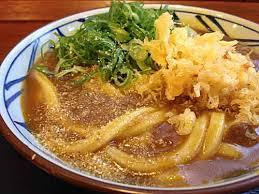curry: (2, 4, 259, 190)
